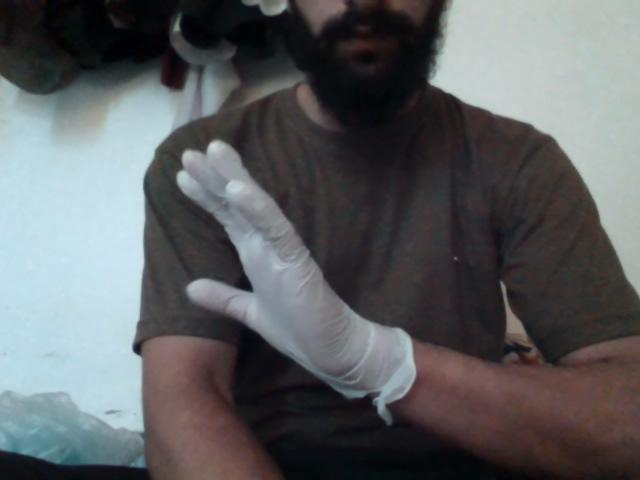gloves: (149, 132, 432, 418)
